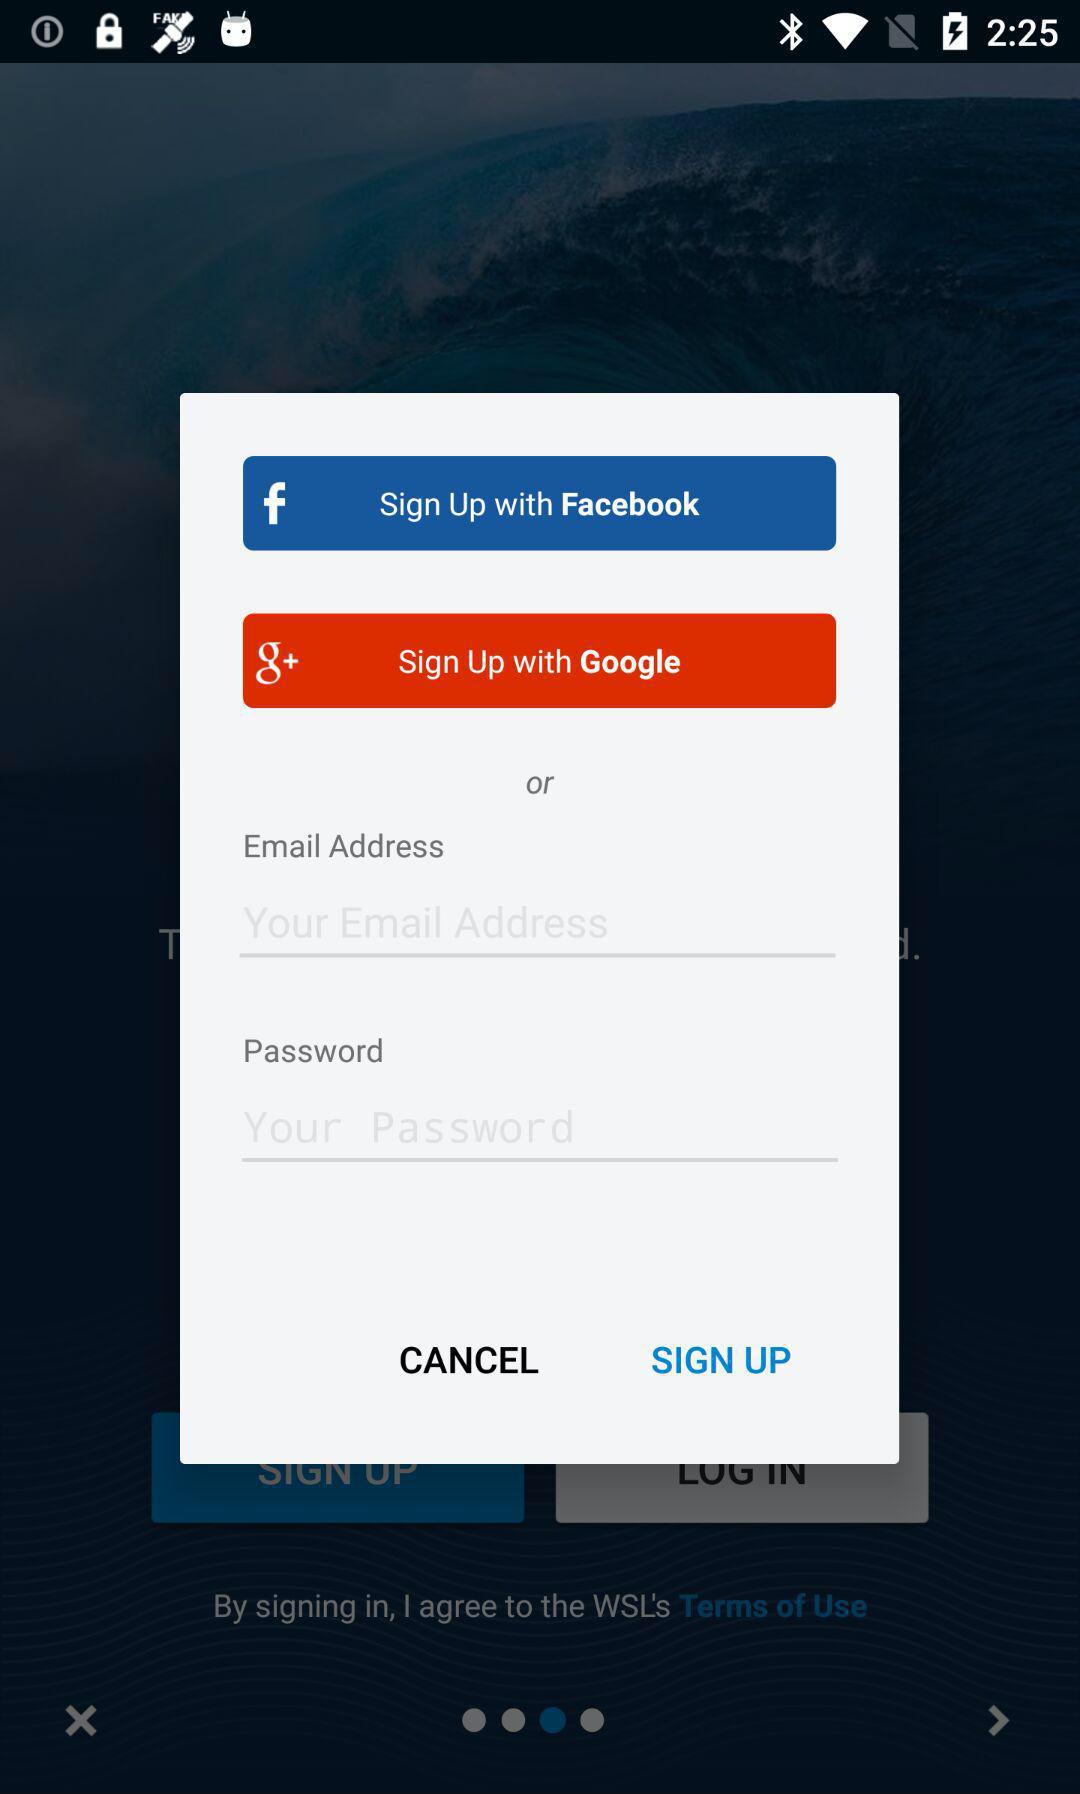EditText: (241, 1110, 839, 1164), (240, 906, 835, 959)
Icon: (64, 1706, 97, 1738), (986, 1704, 1010, 1738)
Modal: (179, 393, 899, 1465)
PageIndicator: (461, 1707, 606, 1734)
Text: (215, 1594, 867, 1625), (243, 905, 609, 939), (245, 1111, 573, 1144), (243, 832, 445, 860), (400, 1345, 541, 1375), (653, 1345, 790, 1375), (245, 1039, 384, 1065), (527, 777, 556, 794)
TextButton: (243, 456, 837, 552), (242, 614, 837, 709)
UpperTaskBar: (1, 1, 1080, 64)
